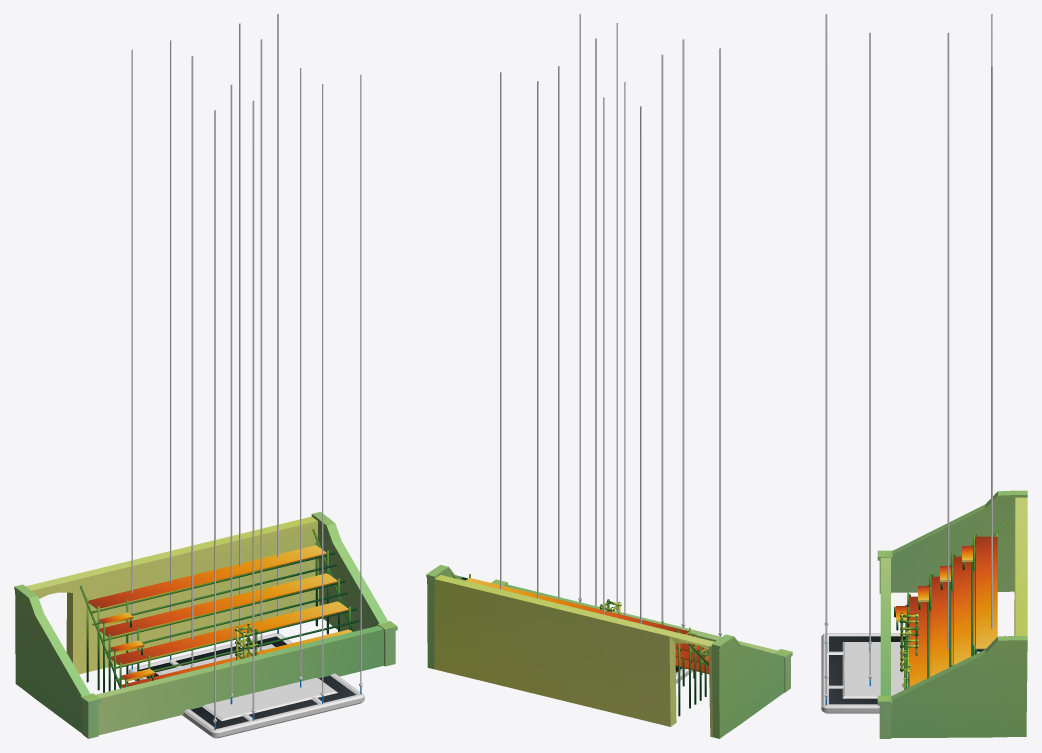
Rendered from JogoDaMemoria.fbx.
3 views of the same model, side by side, from view 1: azimuth 30°, elevation 25°; view 2: azimuth 150°, elevation 25°; view 3: azimuth 270°, elevation 25° (orthographic). The views are drawn at different scales.
Visible parts, largest first — view 1: ParedeDaArquibancada, Bleachers, Platform8x8Azul, Platform4x8Azul, Platform4x4Azul; view 2: ParedeDaArquibancada, Platform4x8Azul, Platform4x4Azul, Platform8x8Azul, Bleachers; view 3: ParedeDaArquibancada, Bleachers, Platform8x8Azul, Platform4x4Azul, Platform4x8Azul, VerticalBoxTruss.
Boxes of the visible parts, x1,y1,x2,y2 form: ParedeDaArquibancada: (14, 512, 397, 738); Bleachers: (79, 529, 358, 692); Platform8x8Azul: (128, 14, 364, 738); Platform4x8Azul: (169, 23, 324, 728); Platform4x4Azul: (190, 39, 302, 704); ParedeDaArquibancada: (426, 565, 792, 738); Platform4x8Azul: (537, 23, 685, 627); Platform4x4Azul: (558, 38, 663, 620); Platform8x8Azul: (500, 14, 721, 683); Bleachers: (453, 574, 709, 716); ParedeDaArquibancada: (877, 490, 1027, 738); Bleachers: (894, 522, 1006, 688); Platform8x8Azul: (821, 14, 992, 713); Platform4x4Azul: (868, 32, 949, 686); Platform4x8Azul: (821, 32, 992, 688); VerticalBoxTruss: (900, 613, 918, 672).
Bounding box in the file's own units: 1621 × 3246 × 935.
